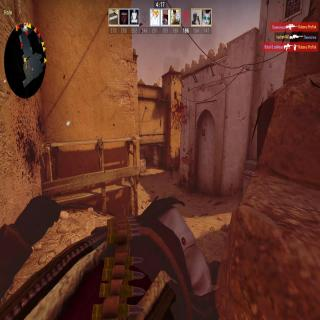CT-Body: (169, 163, 174, 179), (160, 157, 162, 166)
CT-Head: (172, 163, 174, 167), (160, 158, 161, 160)
